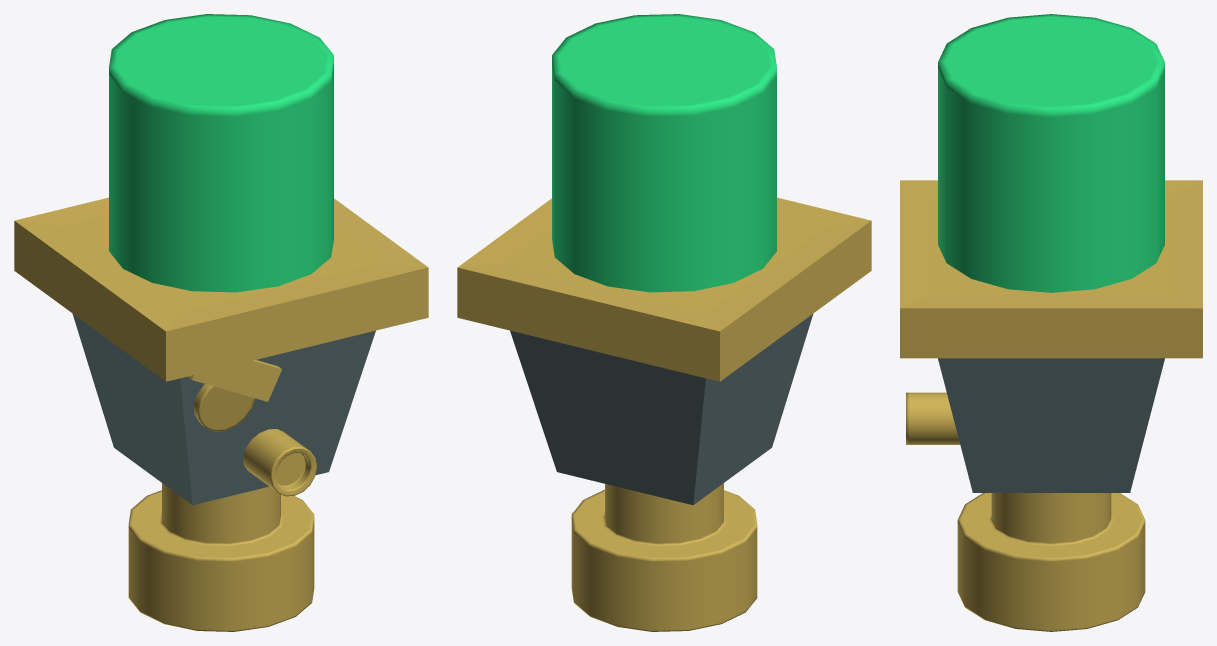
Rendered from EnemyStationary.gltf.
The picture shows the model from 3 angles, left to right: view 1: azimuth 30°, elevation 25°; view 2: azimuth 150°, elevation 25°; view 3: azimuth 270°, elevation 25°; orthographic projection.
Parts seen in each view (by area): view 1: EnenmyStationaryHead, EnemySationaryHat, EnenmyStationaryBottom, EnenmyStationaryCannon, EnenmyStationaryEyeBrows, EnenmyStationaryEyes; view 2: EnenmyStationaryHead, EnemySationaryHat, EnenmyStationaryBottom; view 3: EnemySationaryHat, EnenmyStationaryHead, EnenmyStationaryBottom, EnenmyStationaryCannon.
Boxes of the visible parts, left/top/right/bottom form: EnenmyStationaryHead: left=14, top=197, right=428, bottom=505; EnemySationaryHat: left=109, top=14, right=333, bottom=292; EnenmyStationaryBottom: left=128, top=483, right=314, bottom=631; EnenmyStationaryCannon: left=243, top=429, right=316, bottom=496; EnenmyStationaryEyeBrows: left=187, top=360, right=281, bottom=401; EnenmyStationaryEyes: left=193, top=384, right=254, bottom=431; EnenmyStationaryHead: left=457, top=197, right=871, bottom=505; EnemySationaryHat: left=552, top=14, right=776, bottom=292; EnenmyStationaryBottom: left=571, top=483, right=757, bottom=631; EnemySationaryHat: left=938, top=14, right=1164, bottom=292; EnenmyStationaryHead: left=900, top=180, right=1202, bottom=492; EnenmyStationaryBottom: left=957, top=493, right=1145, bottom=631; EnenmyStationaryCannon: left=906, top=392, right=960, bottom=444.
Size of the model in its own units: 0.9336 by 1.8 by 0.9336.
